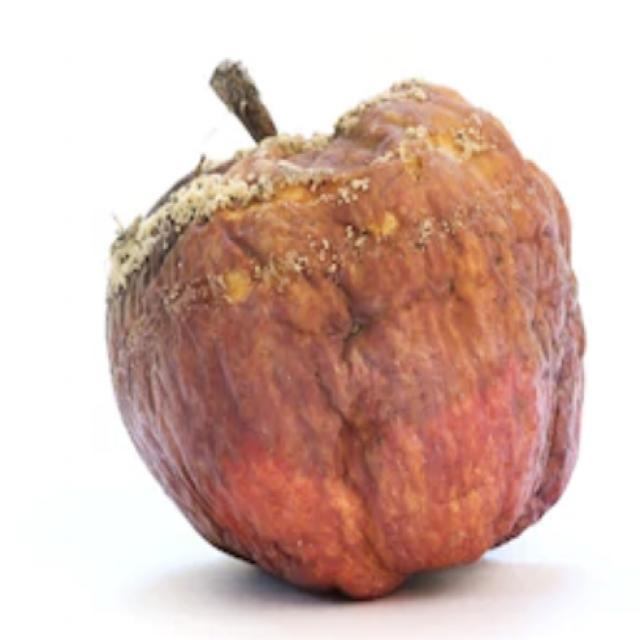Rotten: (95, 73, 590, 602)
